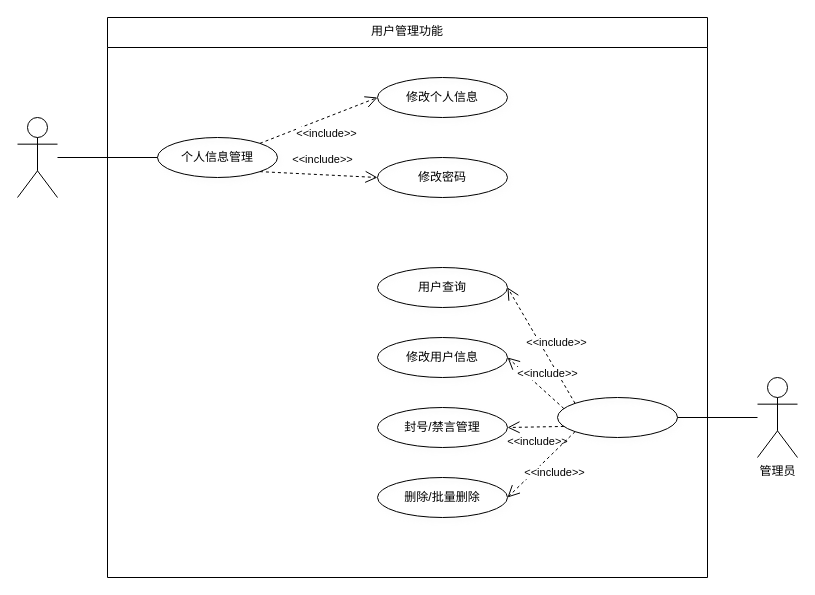
The diagram is 815 pixels wide and 595 high, and some of its shapes have lost their labels. Here are the shapes that lost their labels. From the top down, the centre of each, then its label:
(37,157): 用户
(618,418): 后台用户管理
